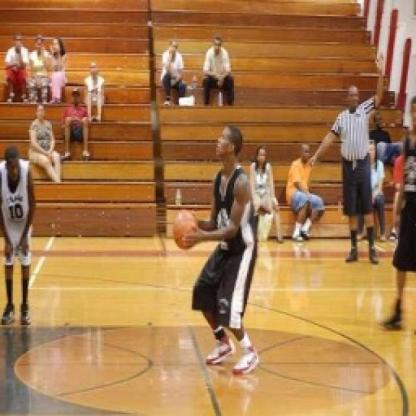basketball: (170, 207, 199, 251)
